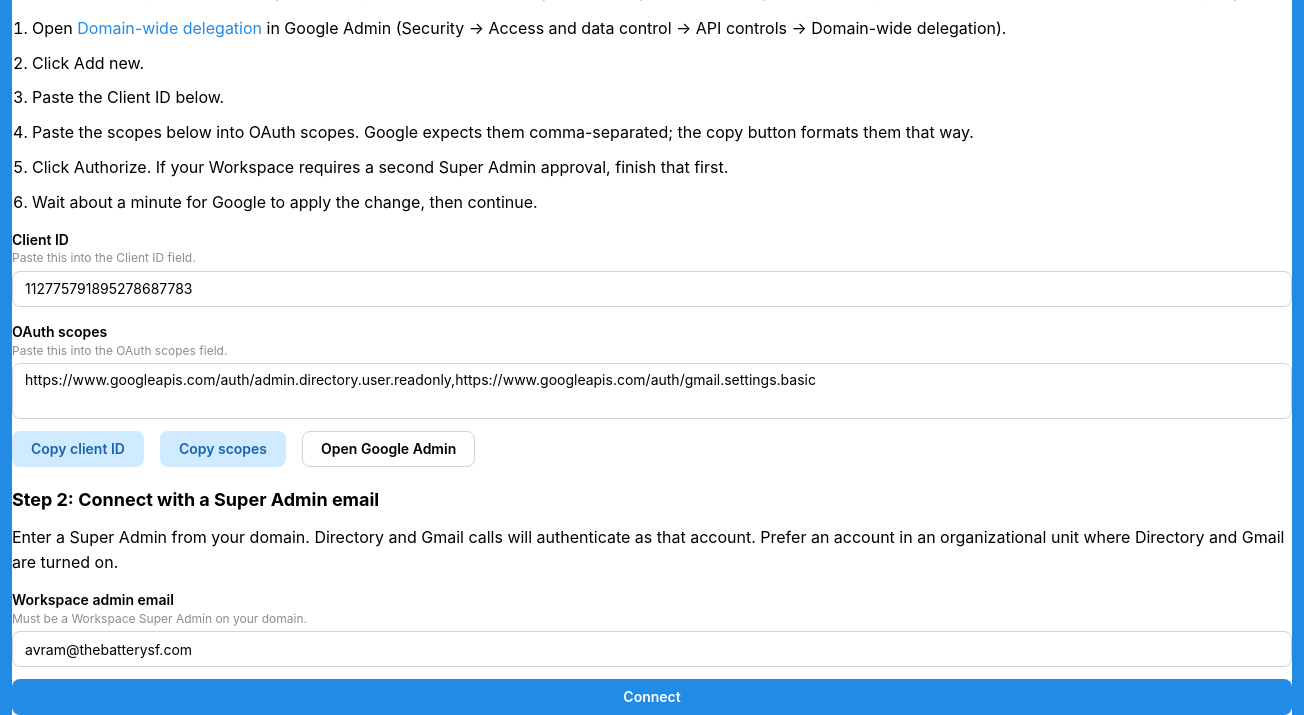
ConnectWorkspacePanel › shows an on-page explanation when Google rejects delegation
(page scrolled)
Click the button "Connect" at (652, 697), box [12,679,1292,714]
(page scrolled)
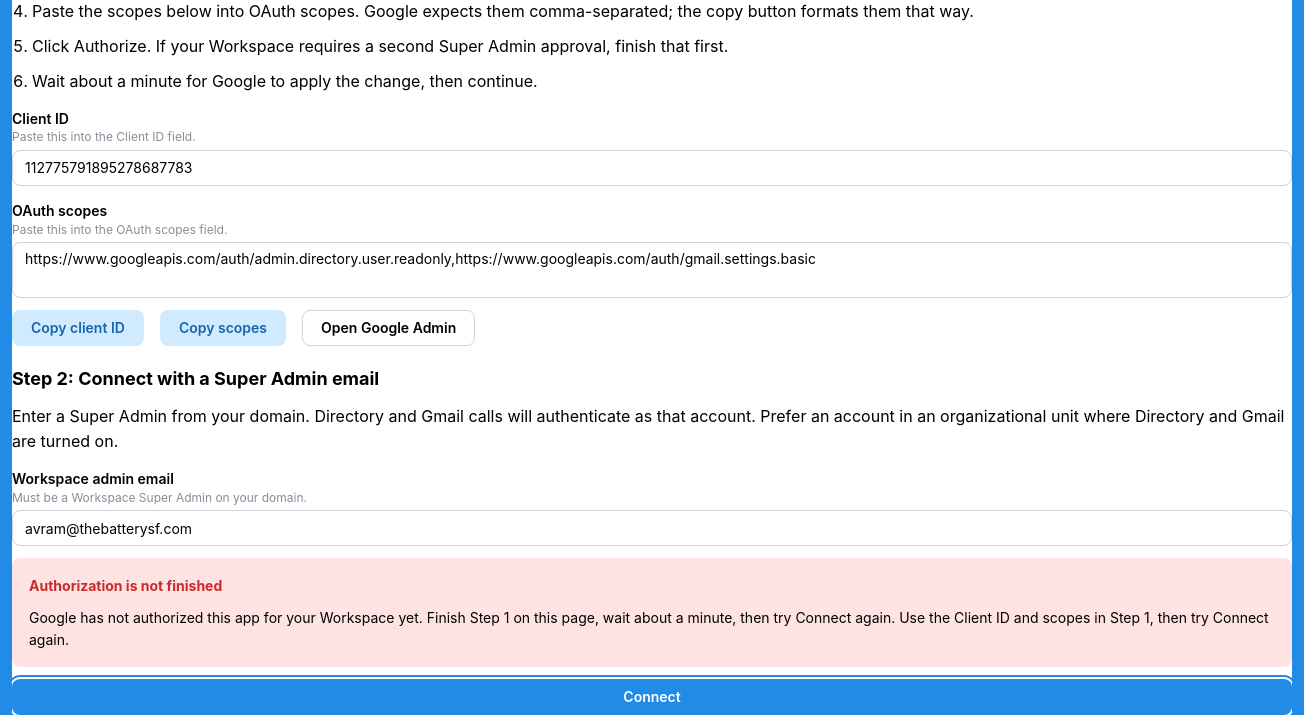
Now the text "Authorization is not finished" is shown, box [29,575,222,597]
Now the text "Finish Step 1 on this page" is shown, box [29,609,895,626]
Now the text "Use the Client ID and scopes in Step 1" is shown, box [29,609,1269,648]
